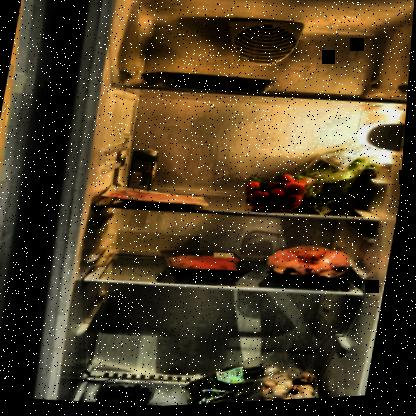blueberries: (99, 373, 163, 409)
chicken: (264, 239, 368, 297)
green_beans: (190, 358, 273, 406)
ground_beef: (161, 246, 256, 289)
heavy_cream: (126, 148, 162, 195)
mushrooms: (262, 365, 333, 403)
spinach: (294, 147, 385, 224)
strawberries: (242, 168, 315, 221)
